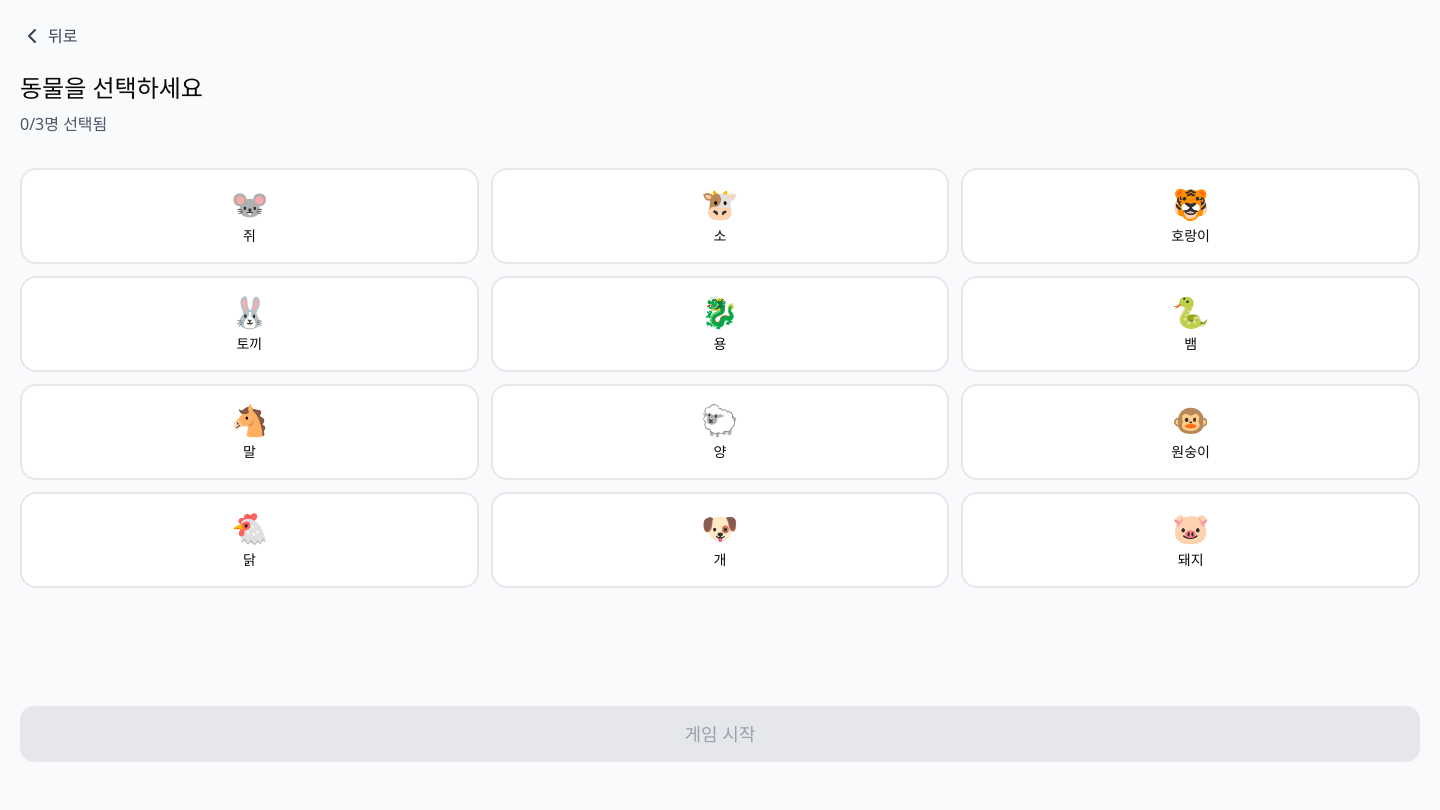
Test: AnimalSelection › updates selection count when animals are selected
Click the text "쥐": x=249, y=236 [243,226,256,246]
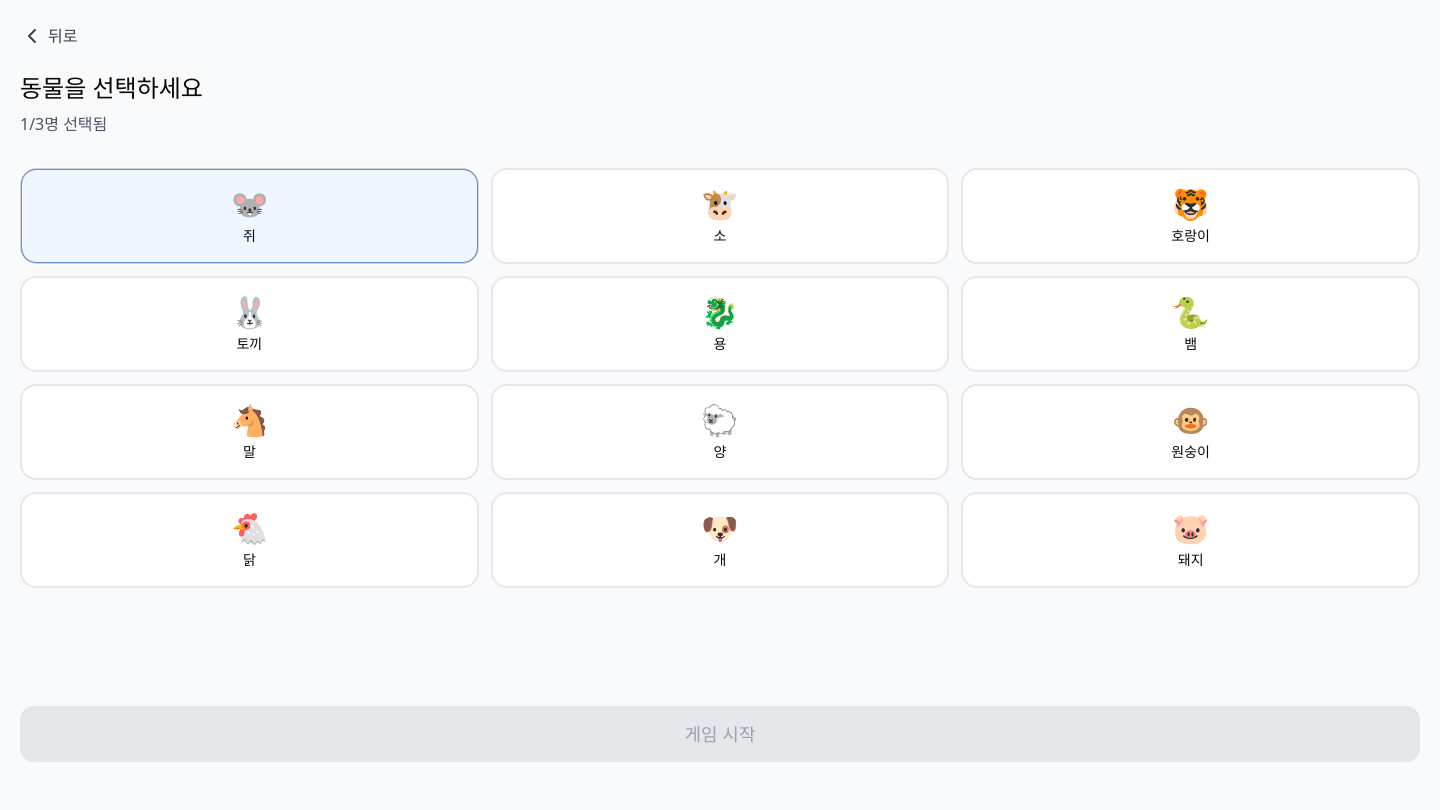
Result: the text "1/3명 선택됨" is shown at [20,113,107,135]
Click the text "소": x=720, y=236 [714,226,726,246]
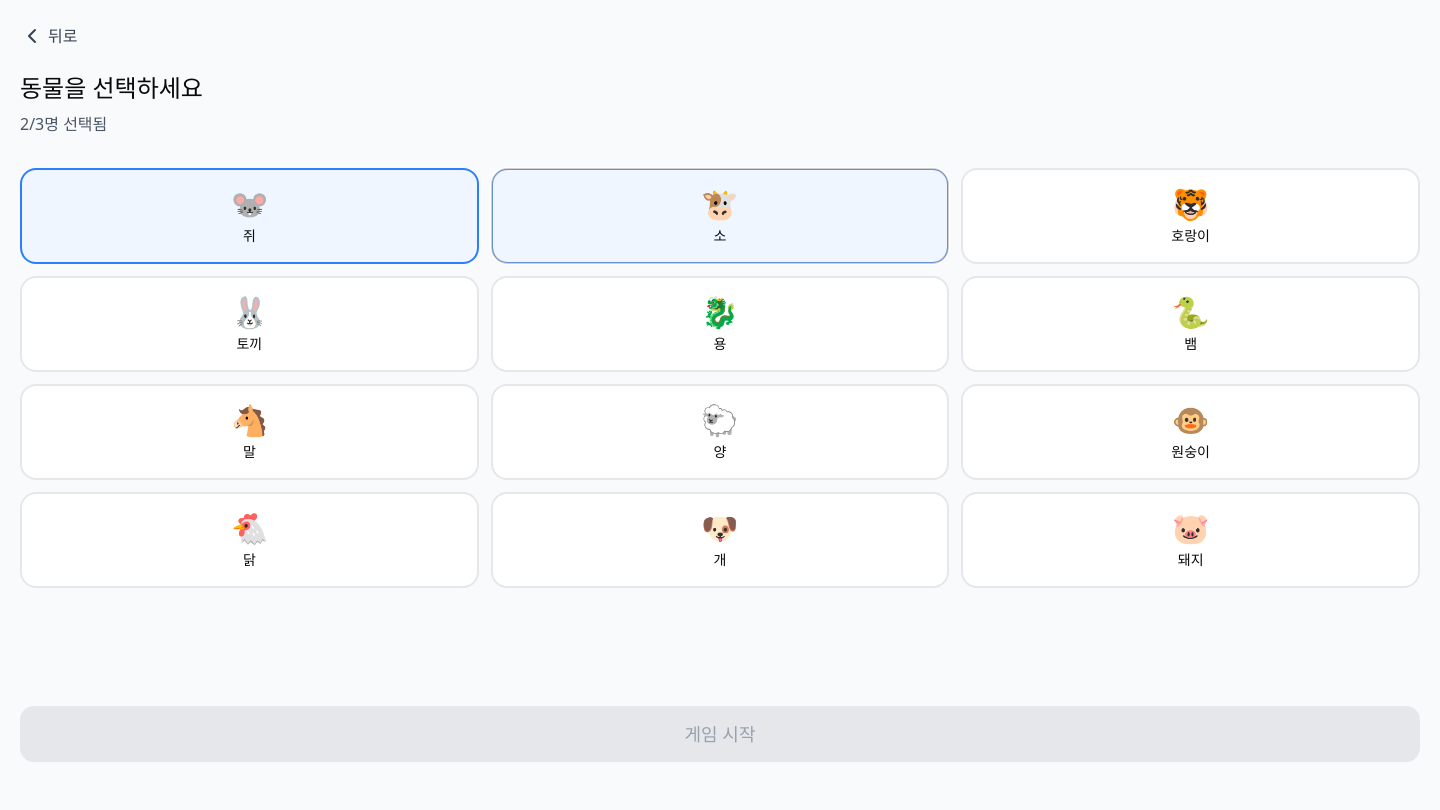
Result: the text "2/3명 선택됨" is shown at [20,113,107,135]
